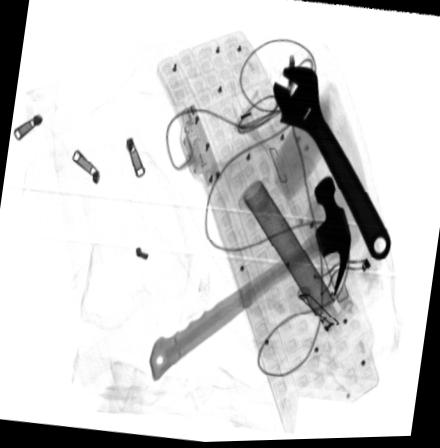Hammer: (149, 177, 351, 382)
Wrench: (272, 69, 393, 263)
